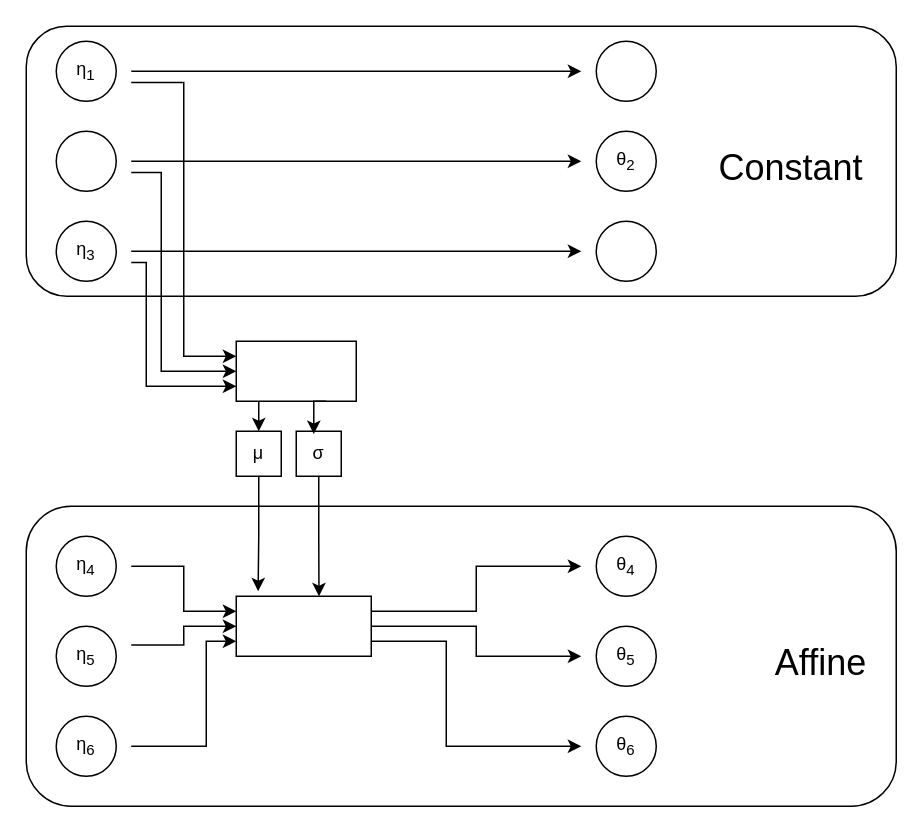
The diagram is 923 pixels wide and 833 high, and some of its shapes have lost their labels. The shapes that lost their labels are listed below. From the top down, each one's centre as x and y in pixels, then its label:
At (x=625, y=70): "θ 1".
At (x=85, y=160): "η 2".
At (x=625, y=250): "θ 3".
At (x=295, y=370): "NN".
At (x=303, y=625): "Affine(μ, σ)".
